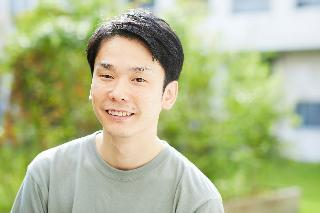person - v3 P: (5, 4, 229, 213)
